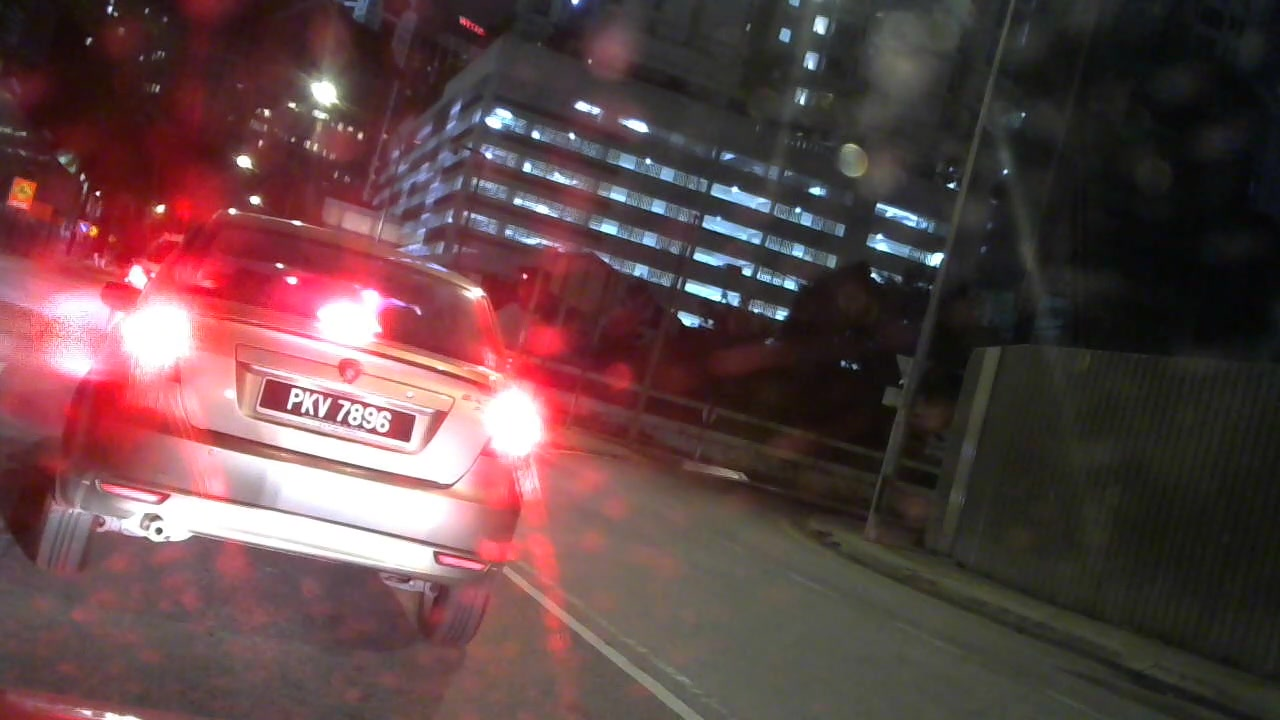Car: (34, 184, 558, 646)
